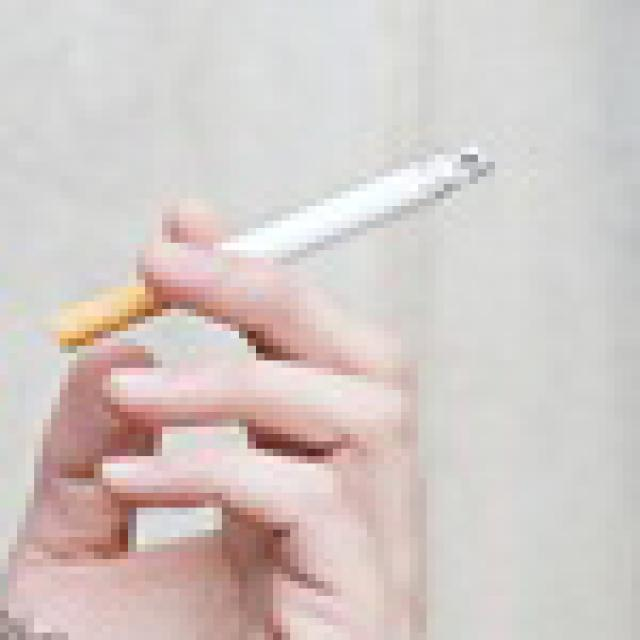smoking: (51, 144, 494, 350)
